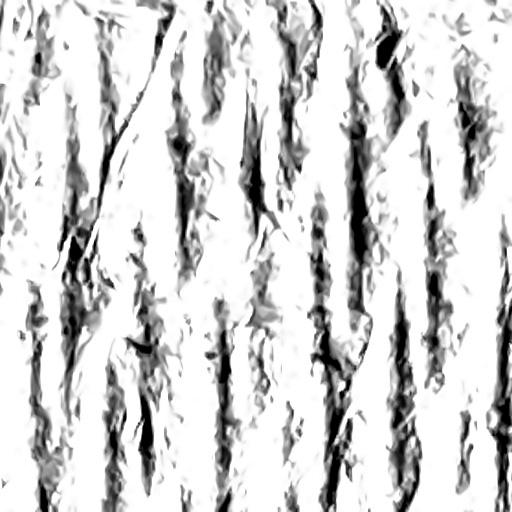egg: (376, 31, 400, 69)
